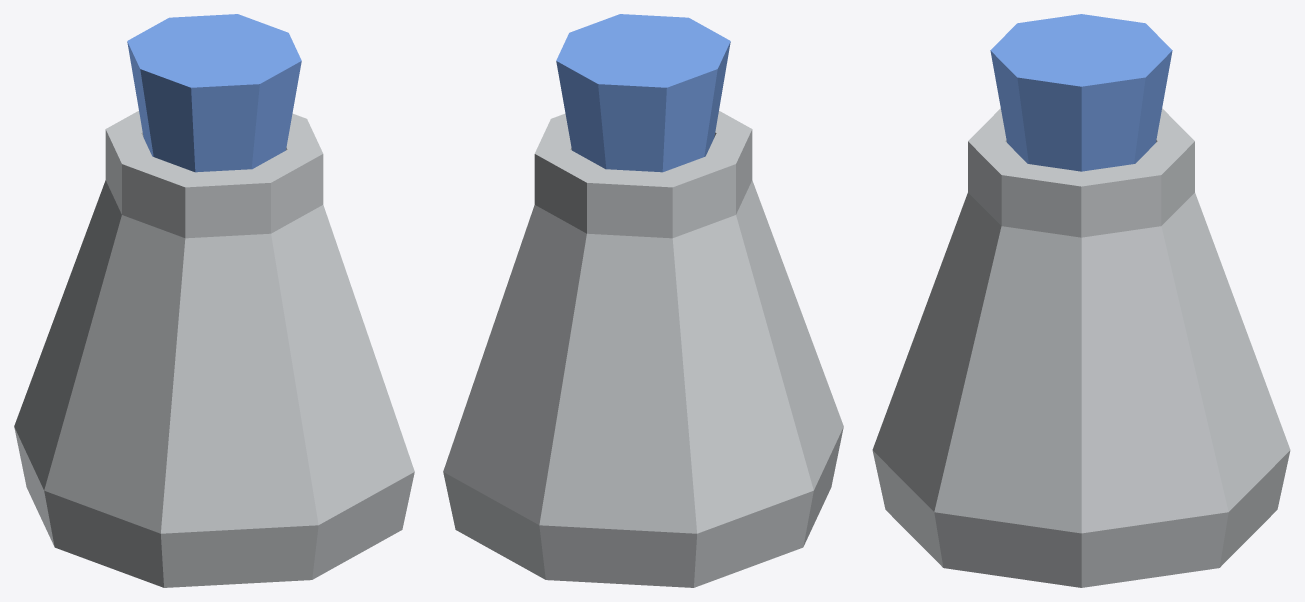
File: MadeByJawns_ItchIO_GameItems_v1_0_1_Potion.glb
The picture shows the model from 3 angles, left to right: view 1: azimuth 30°, elevation 25°; view 2: azimuth 150°, elevation 25°; view 3: azimuth 270°, elevation 25°; orthographic projection.
Visible parts, largest first — view 1: Bottle; view 2: Bottle; view 3: Bottle.
Boxes of the visible parts, bbox=[...] form: Bottle: bbox=[14, 14, 414, 587]; Bottle: bbox=[443, 14, 843, 587]; Bottle: bbox=[872, 14, 1290, 587].
Bounding box in the file's own units: 4.38 × 5.76 × 4.64.
